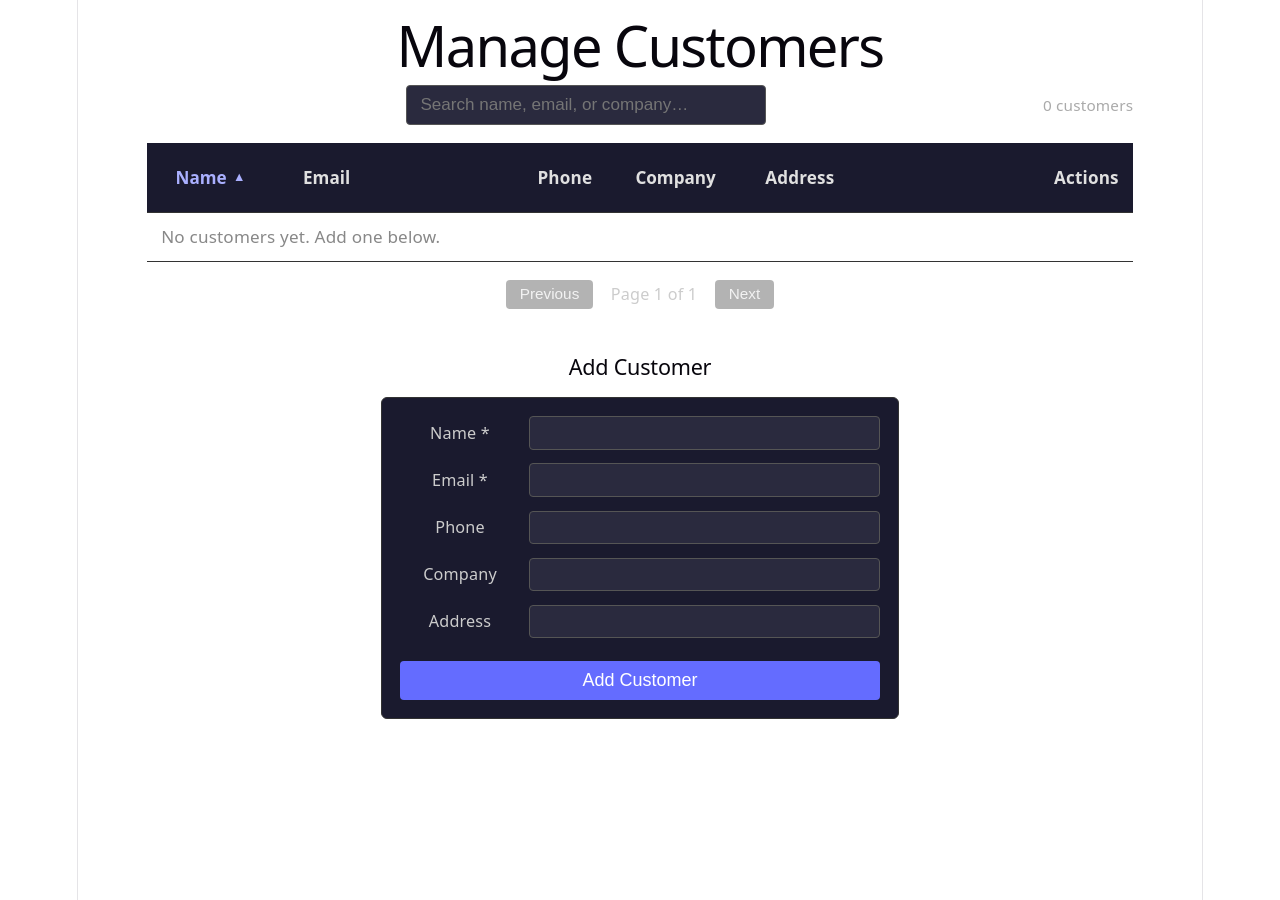
it: Customers page › submits a new customer and refreshes the list
Check: the text "No customers yet. Add one below." is shown, box [147,213,1133,262]
Type "Carol" into the field labelled "Name *" at {"x": 704, "y": 433}, box [529,416,880,450]
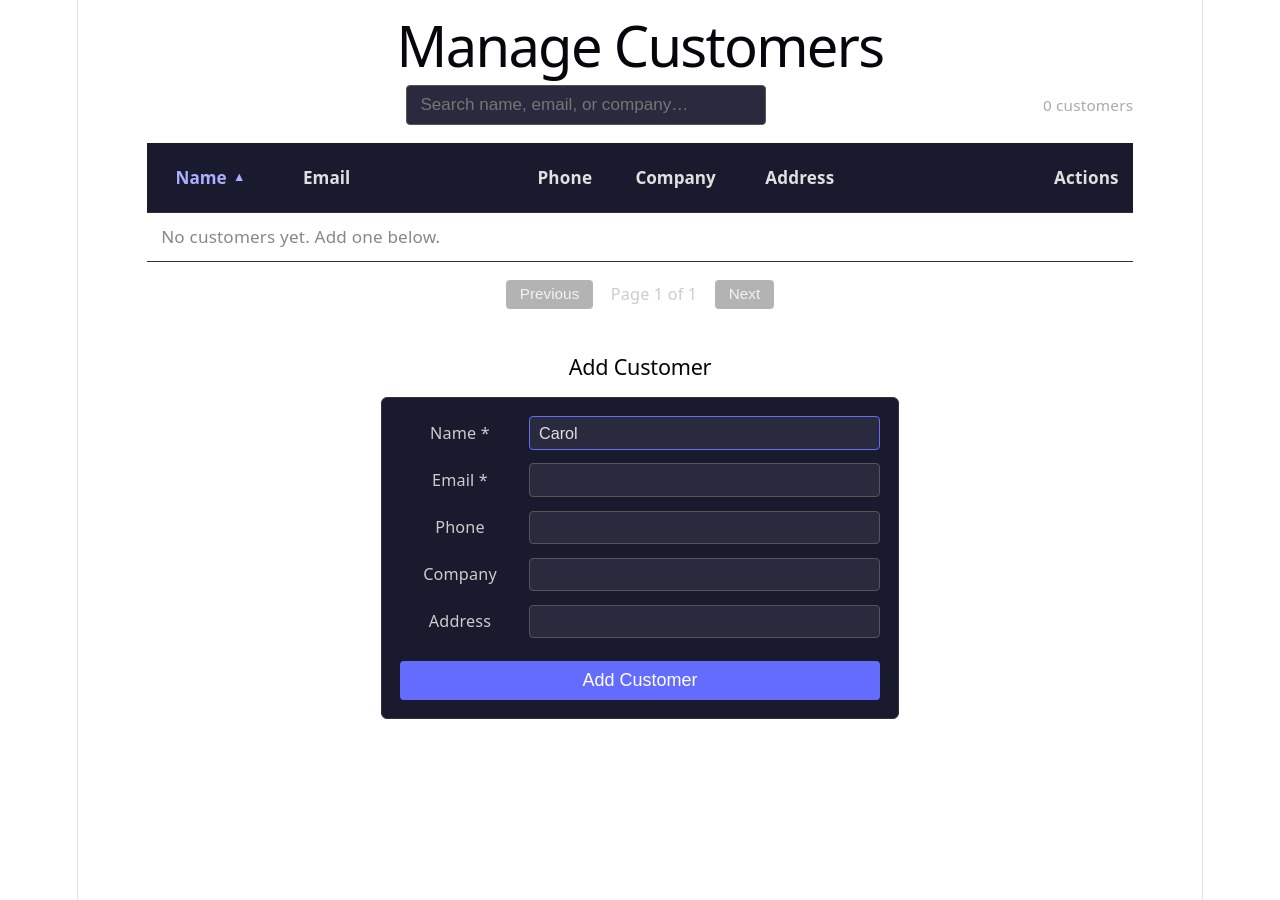
Type "carol@example.com" into the field labelled "Email *" at {"x": 704, "y": 480}, box [529,463,880,497]
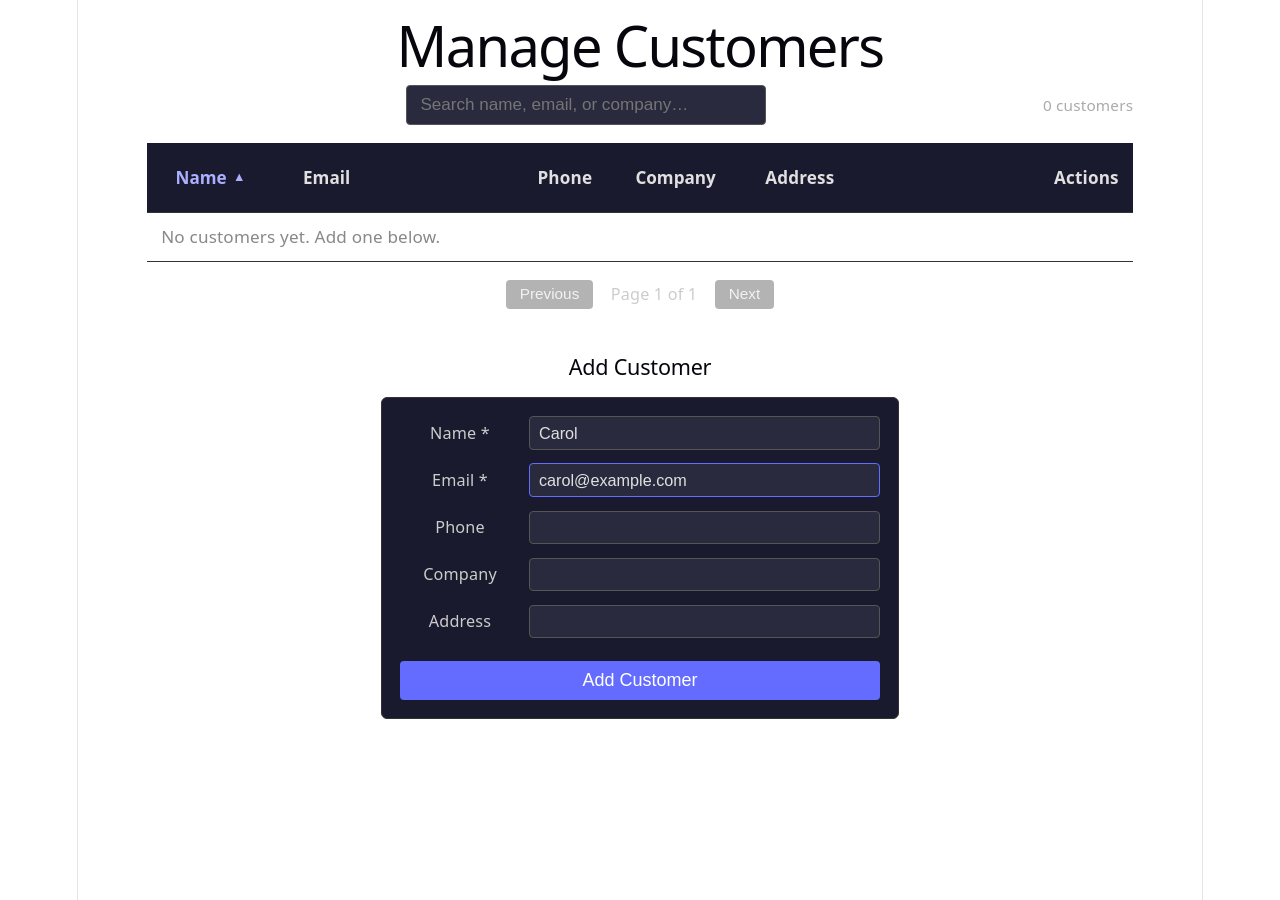
Type "555-9999" into the field labelled "Phone" at {"x": 704, "y": 527}, box [529,510,880,544]
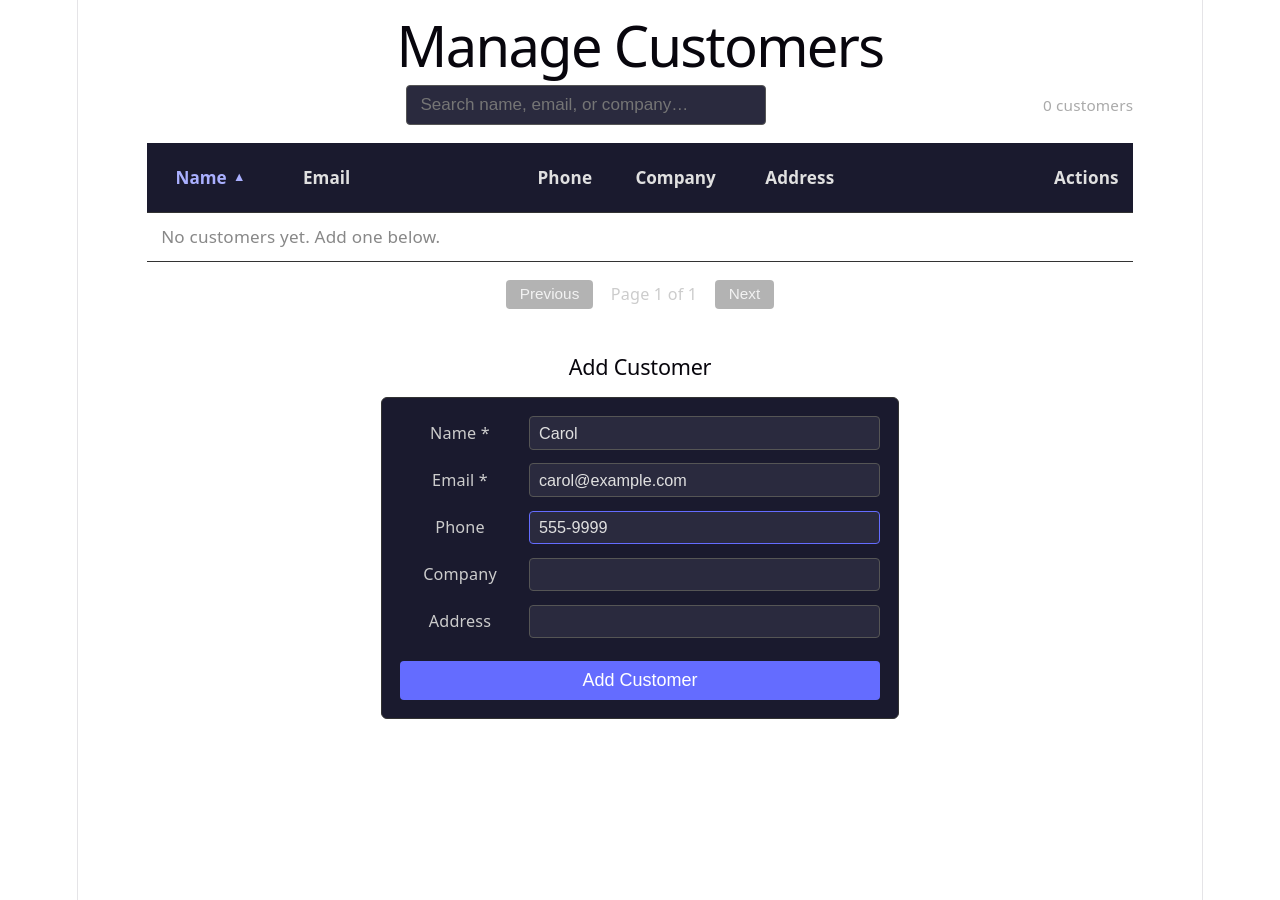
Click the button "Add Customer" at {"x": 640, "y": 680}, box [400,661,880,700]
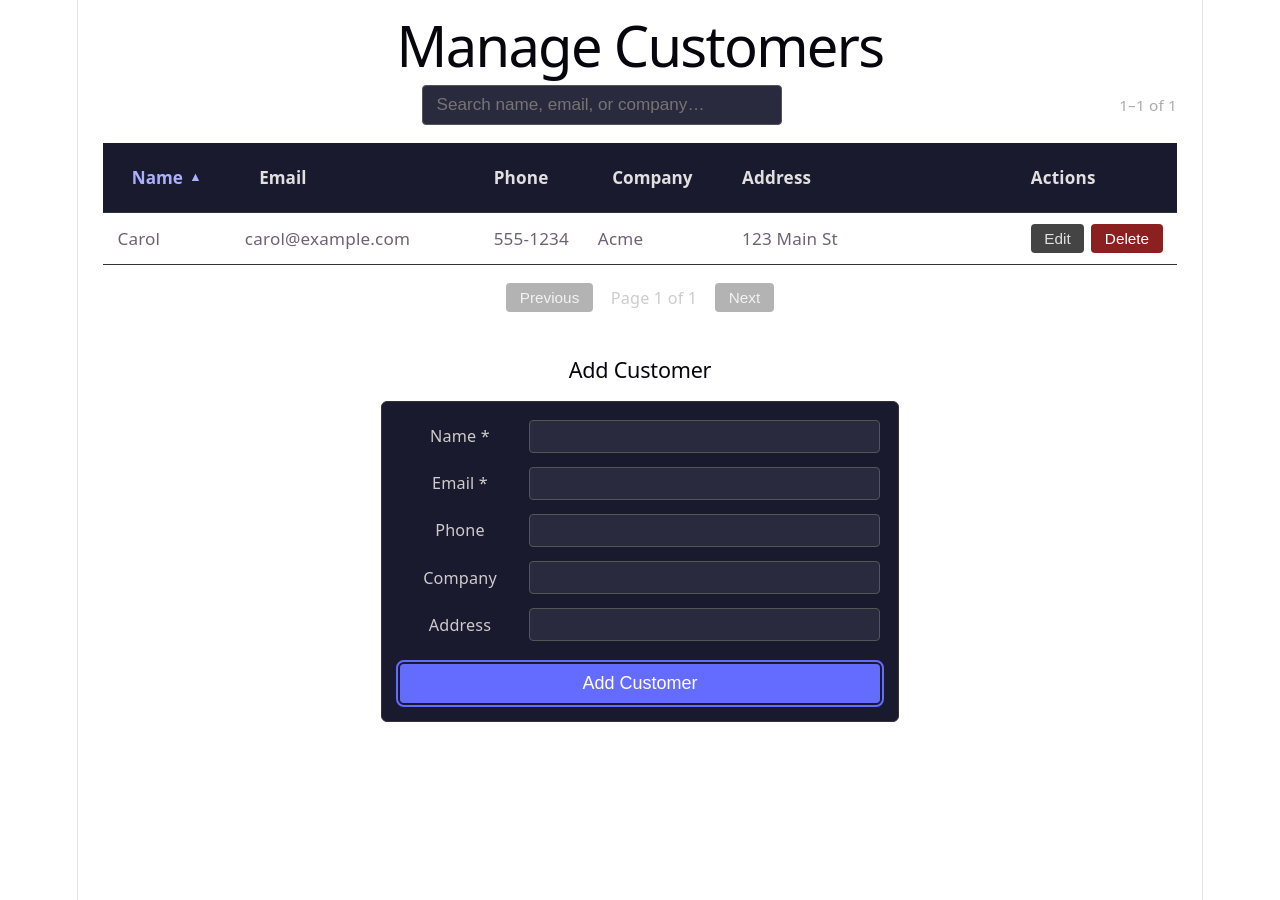
Check: the text "Carol" is shown, box [103,213,230,265]
Check: the field labelled "Name *" is empty, box [529,420,880,453]
Check: the field labelled "Email *" is empty, box [529,467,880,500]
